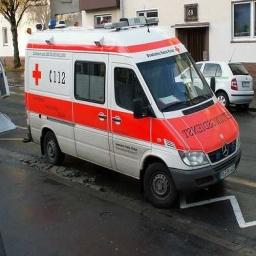Ambulance: (25, 17, 240, 206), (0, 60, 9, 98)
